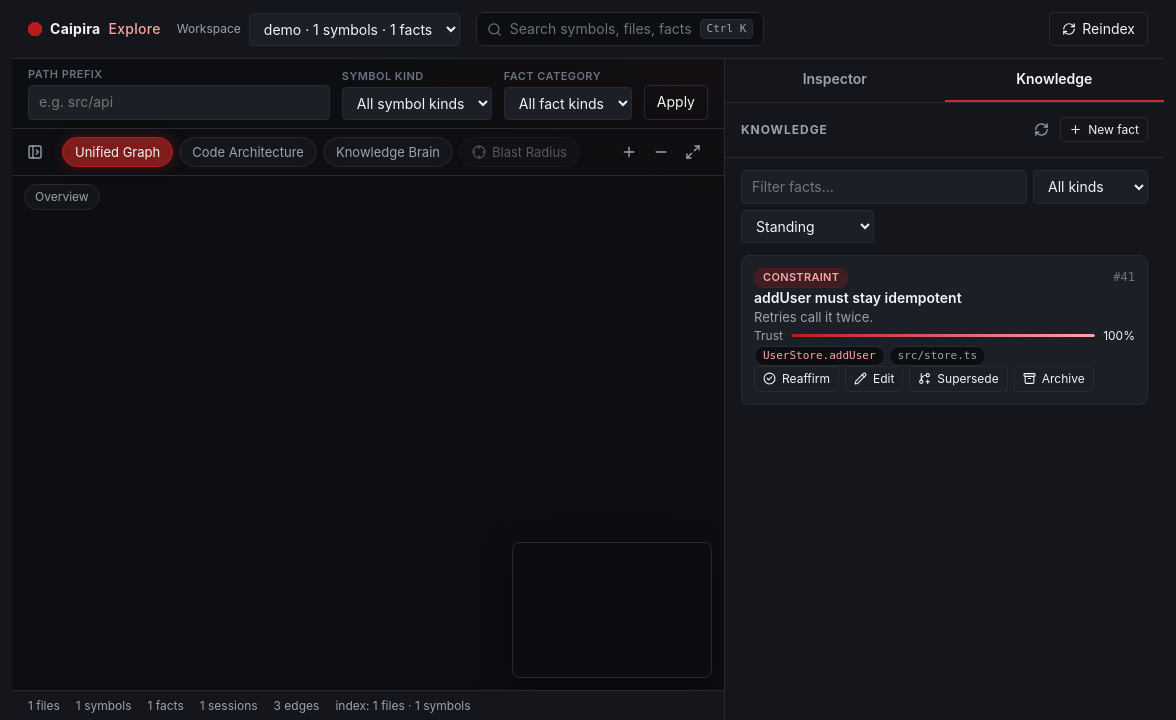
Test: App › shows a recoverable error when the re-check fails
Expected: the heading "addUser must stay idempotent" is shown, [754,289,962,306]
What coordinates should you click on to do the following:
click the button named "Re-check drift"
I would click on:
 (1041, 130)
Its box is [1026,115,1056,145].
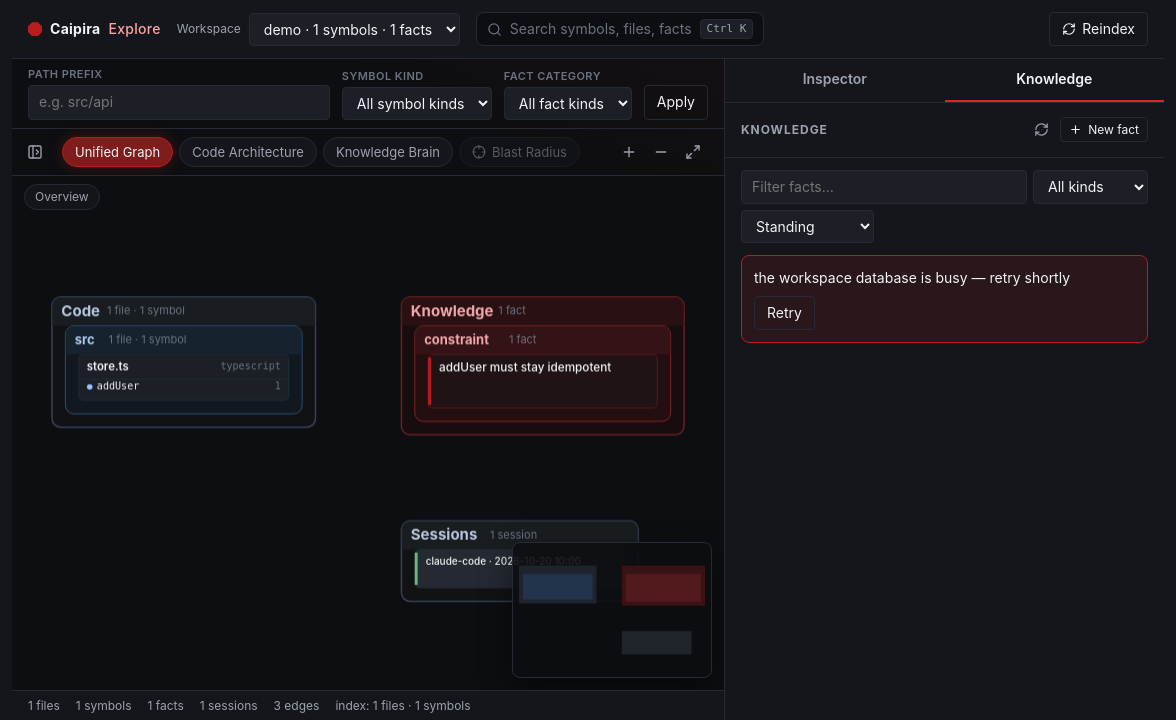
Expected: the button "NEEDS REVIEW" is not shown
Expected: the message shows "the workspace database is busy", [754,269,1070,286]
What coordinates should you click on to do the following:
click the button "Retry"
I would click on:
 (784, 313)
Its box is [754,296,815,330].
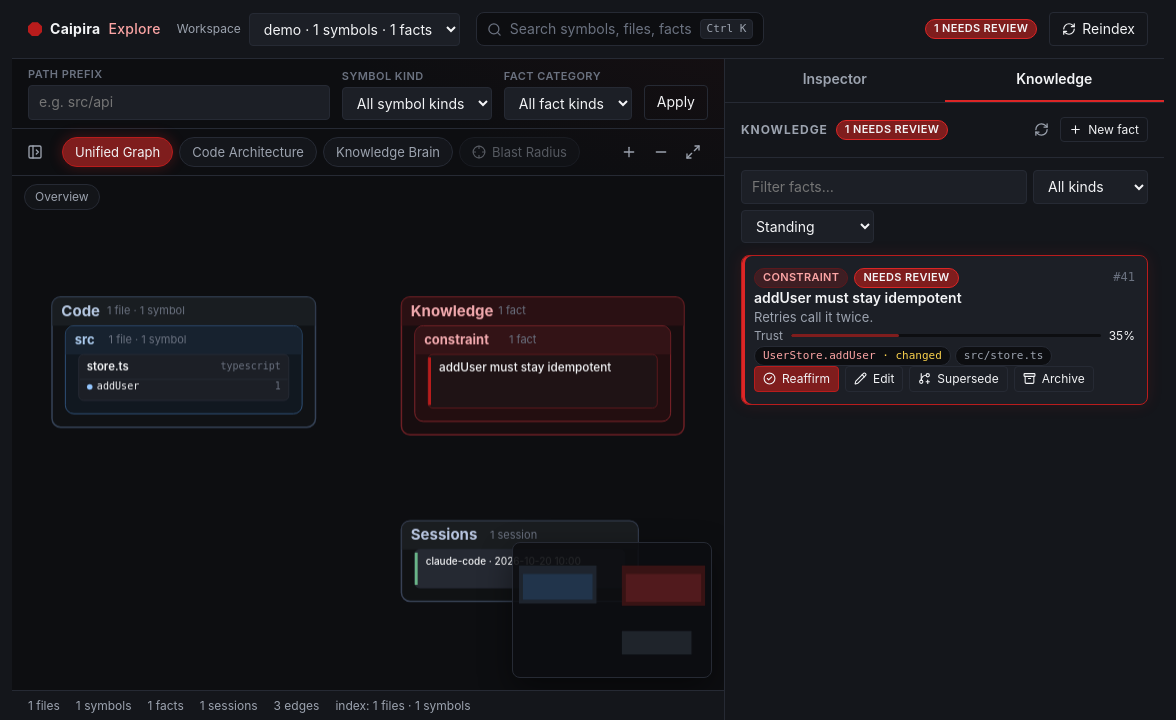
Expected: the button "1 NEEDS REVIEW" is shown, [925,19,1037,39]
Expected: the text "1 NEEDS REVIEW" is shown, [836,120,948,140]
